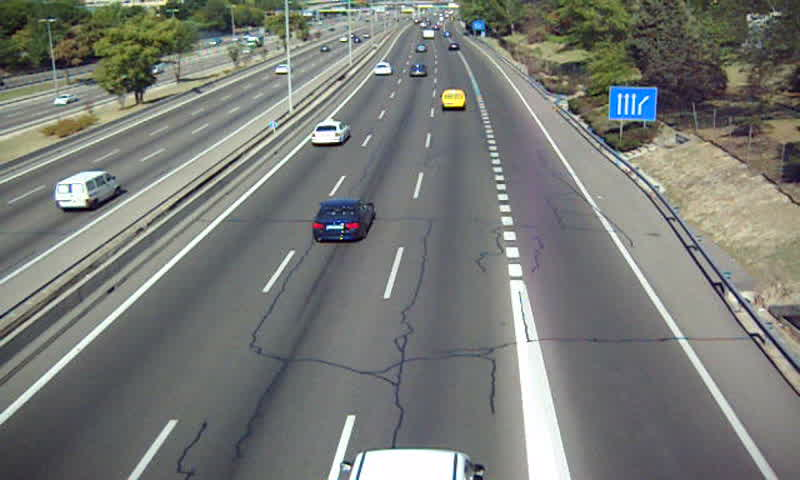car: (314, 199, 373, 242), (310, 121, 350, 145), (408, 63, 429, 78), (372, 62, 392, 77)
van: (441, 89, 466, 110)
